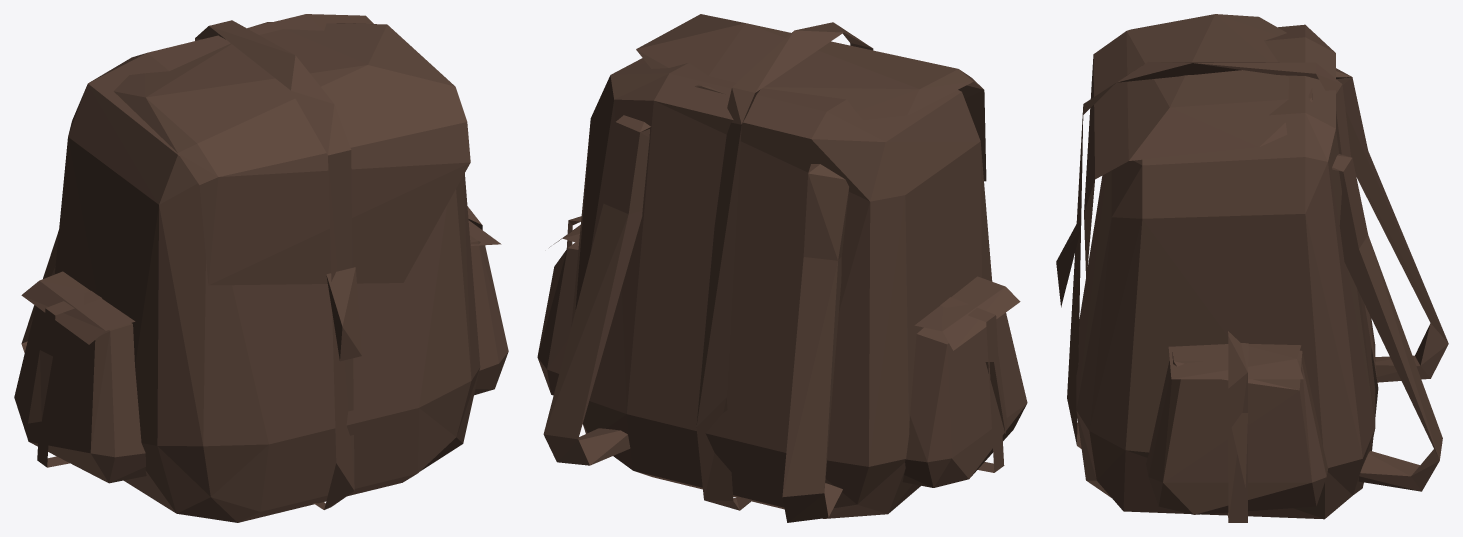
Rendered from backpack.glb.
3 views of the same model, side by side, from view 1: azimuth 30°, elevation 25°; view 2: azimuth 150°, elevation 25°; view 3: azimuth 270°, elevation 25° (orthographic). The views are drawn at different scales.
Parts seen in each view (by area): view 1: Backpack; view 2: Backpack; view 3: Backpack.
Boxes of the visible parts, bbox=[...] form: Backpack: bbox=[14, 14, 508, 522]; Backpack: bbox=[537, 14, 1027, 522]; Backpack: bbox=[1056, 14, 1448, 522].
Size of the model in its own units: 105 by 93.49 by 79.56.
